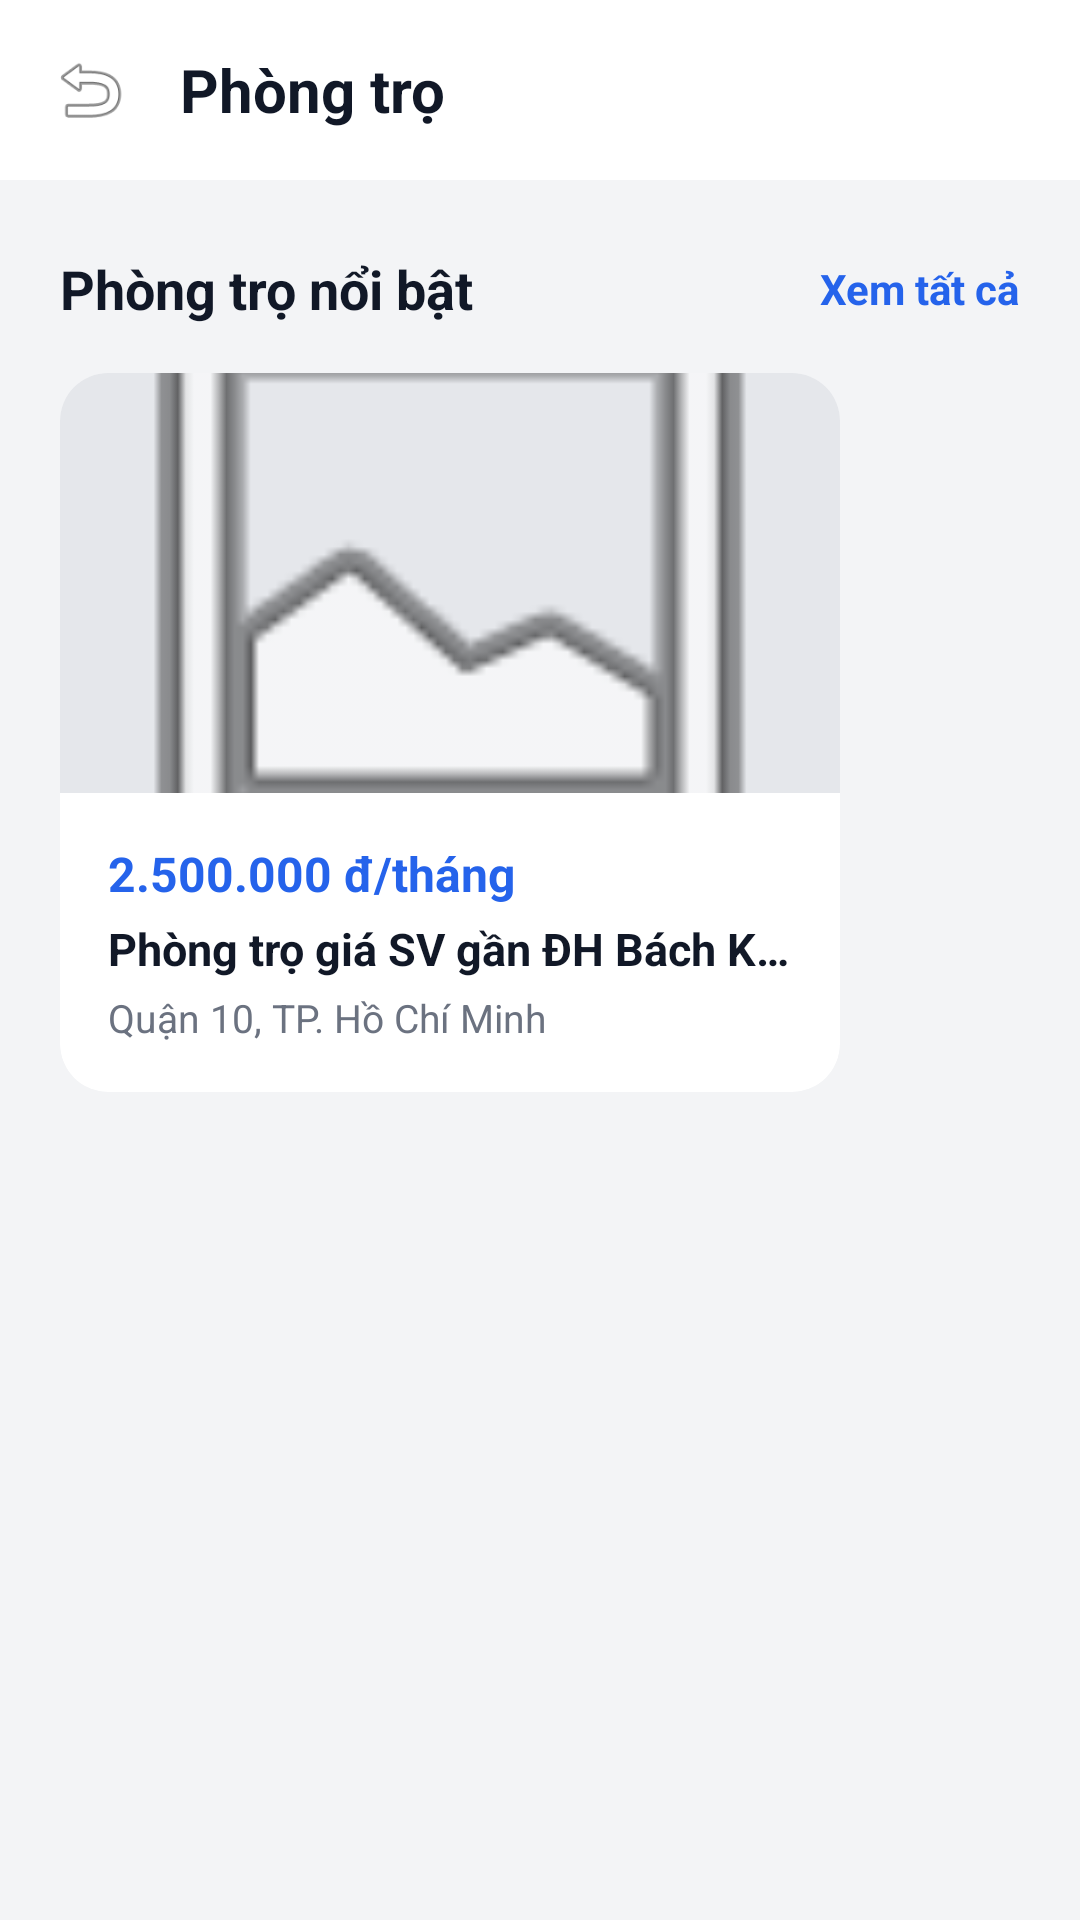

Named icons in this screenshot (1080×1920) and their bounding boxes, (left=x1, top=y1, right=x2, bottom=y2):
revert: (left=61, top=63, right=122, bottom=118)
